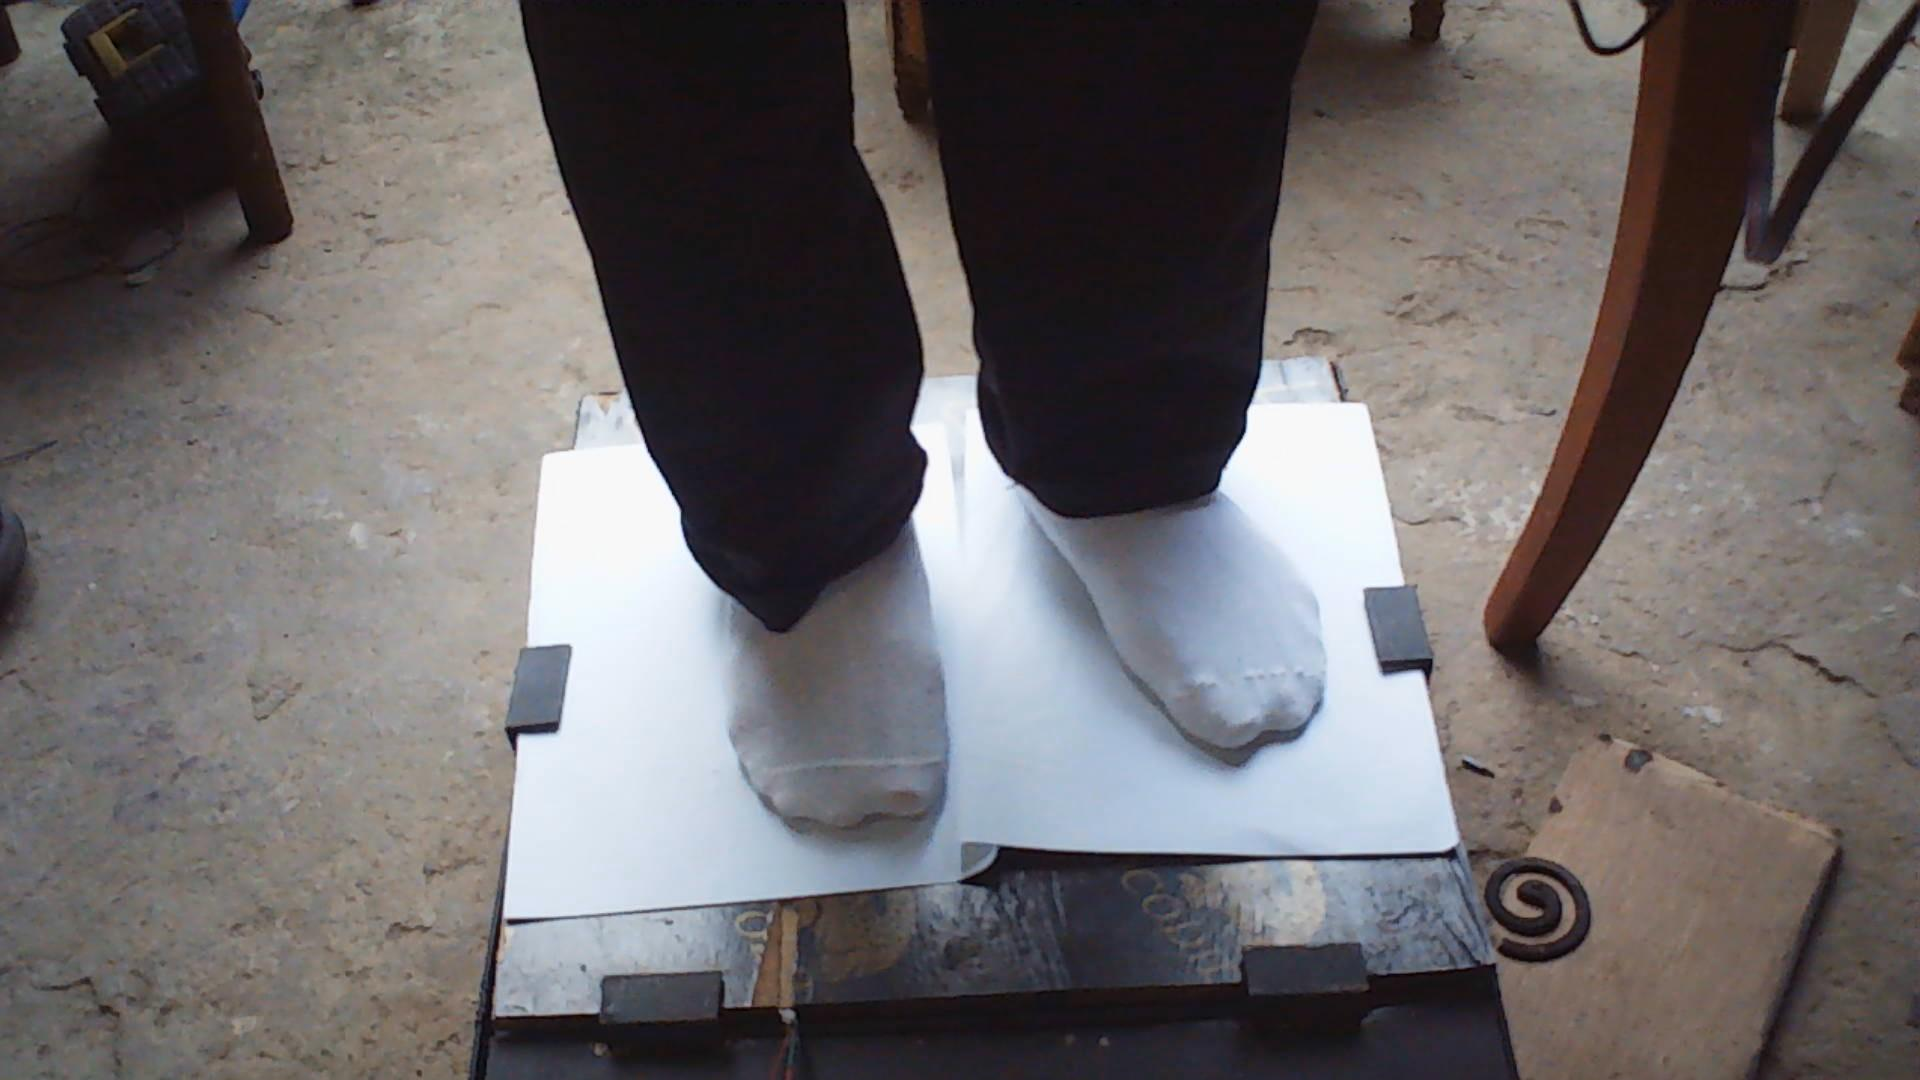white_socks: (932, 332, 1379, 810), (625, 360, 1013, 877)
